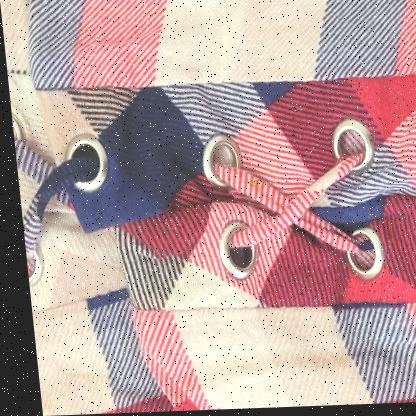spot: (234, 177, 261, 194)
